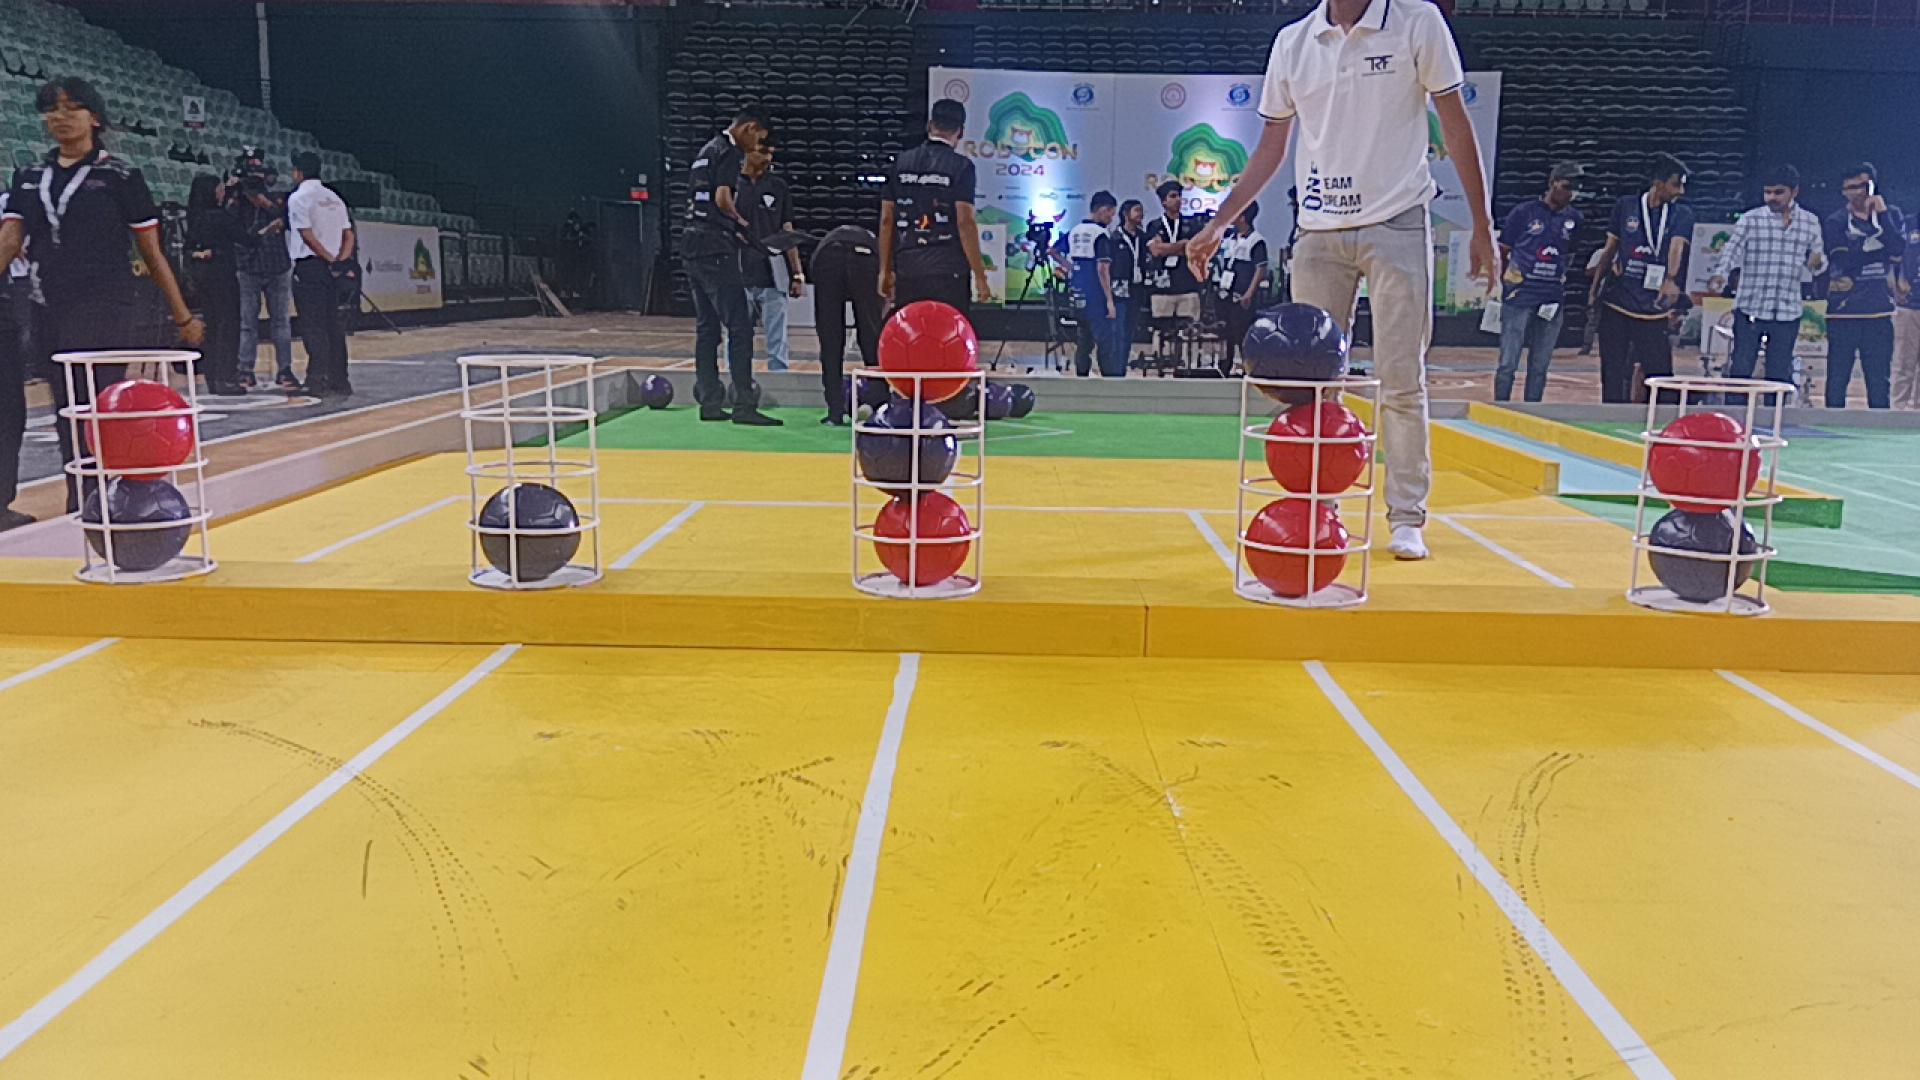dhoka: (1241, 303, 1350, 405), (1646, 510, 1759, 604), (855, 397, 960, 495), (83, 476, 191, 570), (480, 484, 582, 582)
laale: (83, 378, 199, 480), (1650, 413, 1763, 512), (877, 301, 978, 404), (1245, 498, 1350, 596), (1263, 401, 1369, 495), (874, 492, 975, 585)
